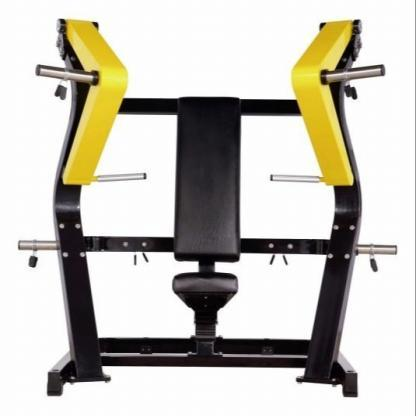Chest Press machine: (16, 12, 401, 403)
